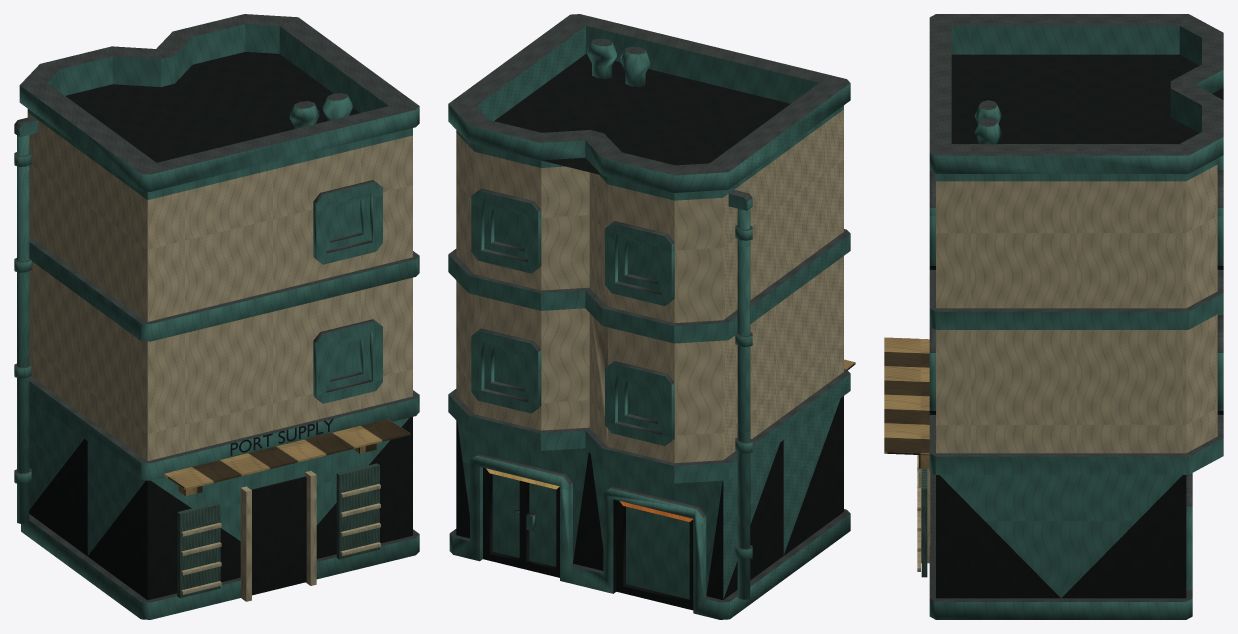
Rendered from shopfront-a-lod.glb.
3 views of the same model, side by side, from view 1: azimuth 30°, elevation 25°; view 2: azimuth 150°, elevation 25°; view 3: azimuth 270°, elevation 25° (orthographic). The views are drawn at different scales.
Visible parts, largest first — view 1: shopfront-a-original-structure, shop-recessed-entry, detail-awning, shop-shutter.001, shop-shutter, shop-door-jamb, shop-door-jamb.001, shop-sign; view 2: shopfront-a-original-structure; view 3: shopfront-a-original-structure, detail-awning, shop-shutter.001, shop-door-jamb.001.
Part boxes in pixels (left/top/right/bottom): shopfront-a-original-structure: left=14, top=14, right=419, bottom=619; shop-recessed-entry: left=251, top=476, right=306, bottom=595; detail-awning: left=163, top=419, right=410, bottom=495; shop-shutter.001: left=336, top=463, right=379, bottom=559; shop-shutter: left=177, top=502, right=220, bottom=598; shop-door-jamb: left=240, top=486, right=251, bottom=601; shop-door-jamb.001: left=305, top=470, right=316, bottom=585; shop-sign: left=230, top=418, right=333, bottom=455; shopfront-a-original-structure: left=448, top=14, right=850, bottom=619; shopfront-a-original-structure: left=929, top=14, right=1223, bottom=619; detail-awning: left=884, top=337, right=929, bottom=468; shop-shutter.001: left=921, top=468, right=927, bottom=577; shop-door-jamb.001: left=918, top=455, right=930, bottom=563.
Size of the model in its own units: 6 by 8.8 by 5.78.
9 materials, 9 textured.
